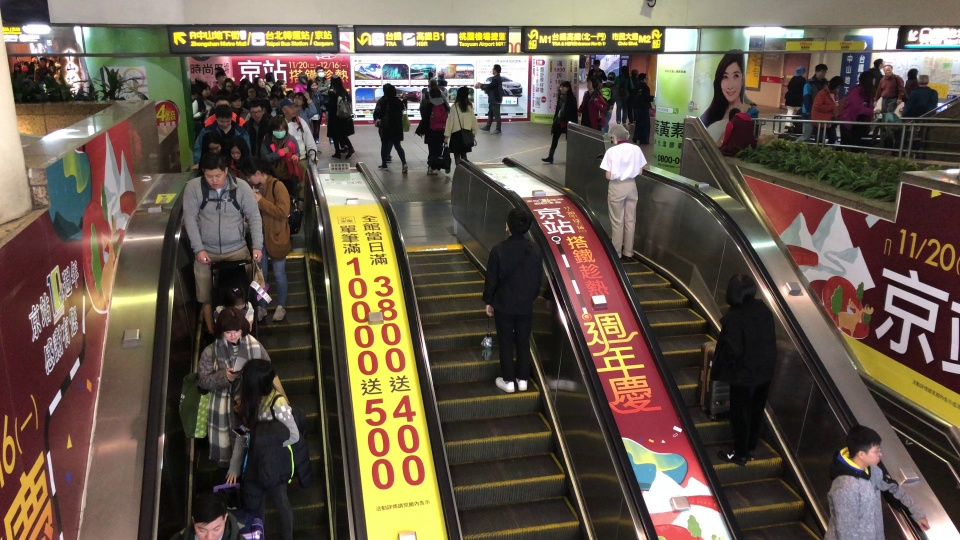person_head: (191, 489, 229, 540), (845, 424, 883, 466), (240, 358, 275, 397), (215, 307, 250, 345), (724, 272, 757, 305), (201, 151, 227, 188), (504, 208, 533, 236), (240, 155, 265, 185), (222, 283, 247, 311), (225, 133, 250, 161), (200, 131, 224, 155), (266, 115, 289, 140), (213, 104, 233, 130), (607, 123, 630, 143), (280, 97, 299, 118), (248, 99, 265, 122), (858, 70, 876, 89), (827, 75, 844, 94), (454, 86, 469, 102), (727, 107, 742, 123), (214, 95, 231, 109), (814, 63, 828, 80), (584, 75, 599, 90), (328, 74, 342, 90), (558, 80, 572, 95), (222, 77, 235, 93), (383, 85, 397, 99), (197, 83, 210, 98), (230, 93, 242, 109), (292, 92, 305, 106), (245, 83, 257, 98), (275, 77, 287, 92), (916, 74, 929, 87), (906, 67, 919, 80), (269, 93, 281, 107), (253, 76, 265, 89), (270, 84, 283, 96), (428, 87, 441, 99), (881, 64, 894, 76), (215, 71, 226, 85), (239, 78, 251, 90), (794, 65, 806, 77), (307, 78, 318, 91), (382, 82, 392, 96), (297, 73, 308, 85), (491, 64, 502, 76), (873, 58, 885, 69), (214, 67, 224, 80), (637, 72, 648, 83), (315, 66, 325, 78), (37, 57, 47, 68), (285, 90, 296, 100), (428, 78, 438, 89), (606, 71, 616, 82), (190, 86, 198, 99), (619, 65, 629, 75), (265, 71, 274, 82), (592, 58, 600, 70), (12, 63, 22, 72), (630, 68, 638, 78), (30, 55, 38, 63), (427, 71, 435, 79), (17, 55, 25, 62), (437, 72, 445, 78)
person_vbox: (195, 307, 273, 510), (181, 152, 264, 341), (224, 357, 300, 540), (709, 272, 777, 467), (822, 424, 930, 540), (480, 208, 543, 393), (240, 155, 292, 322), (599, 123, 647, 262), (279, 97, 319, 211), (190, 103, 251, 171), (260, 115, 303, 210), (169, 489, 248, 539), (837, 70, 881, 152), (540, 80, 578, 164), (418, 86, 451, 176), (376, 85, 408, 174), (443, 86, 478, 166), (794, 63, 828, 143), (325, 74, 355, 159), (809, 75, 844, 145), (473, 63, 503, 135), (212, 282, 255, 332), (718, 107, 756, 156), (241, 98, 272, 157), (631, 72, 654, 145), (872, 64, 905, 114), (372, 82, 392, 164), (901, 74, 938, 118), (578, 75, 606, 131), (314, 66, 334, 144), (783, 65, 806, 129), (203, 95, 245, 127), (419, 77, 450, 119), (597, 70, 618, 132), (192, 83, 214, 142), (612, 64, 633, 124), (196, 131, 223, 176), (306, 78, 324, 145), (224, 133, 250, 178), (290, 92, 316, 137), (627, 68, 639, 126), (213, 77, 239, 102), (230, 93, 249, 121), (587, 58, 607, 84), (34, 57, 53, 82), (867, 58, 885, 84), (903, 67, 919, 94), (210, 71, 227, 95), (266, 93, 283, 116), (252, 76, 268, 98), (293, 72, 308, 92), (239, 78, 251, 99), (264, 71, 274, 96), (578, 55, 586, 84), (15, 55, 29, 71), (437, 71, 447, 91)
